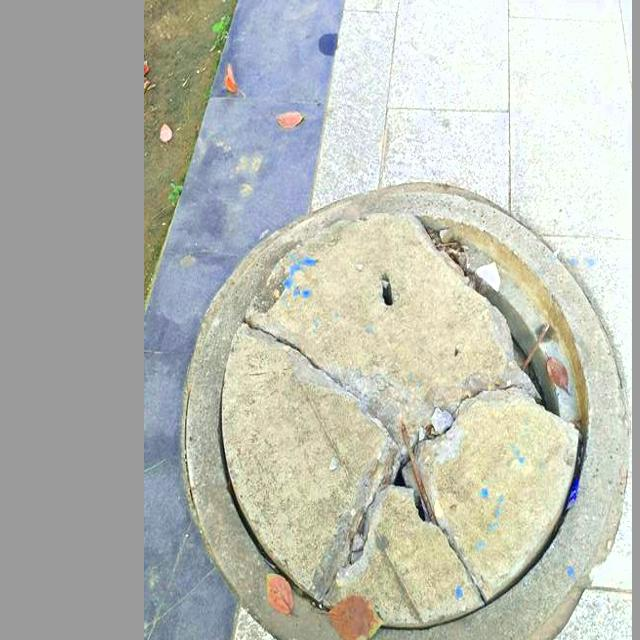broke: (175, 171, 629, 640)
